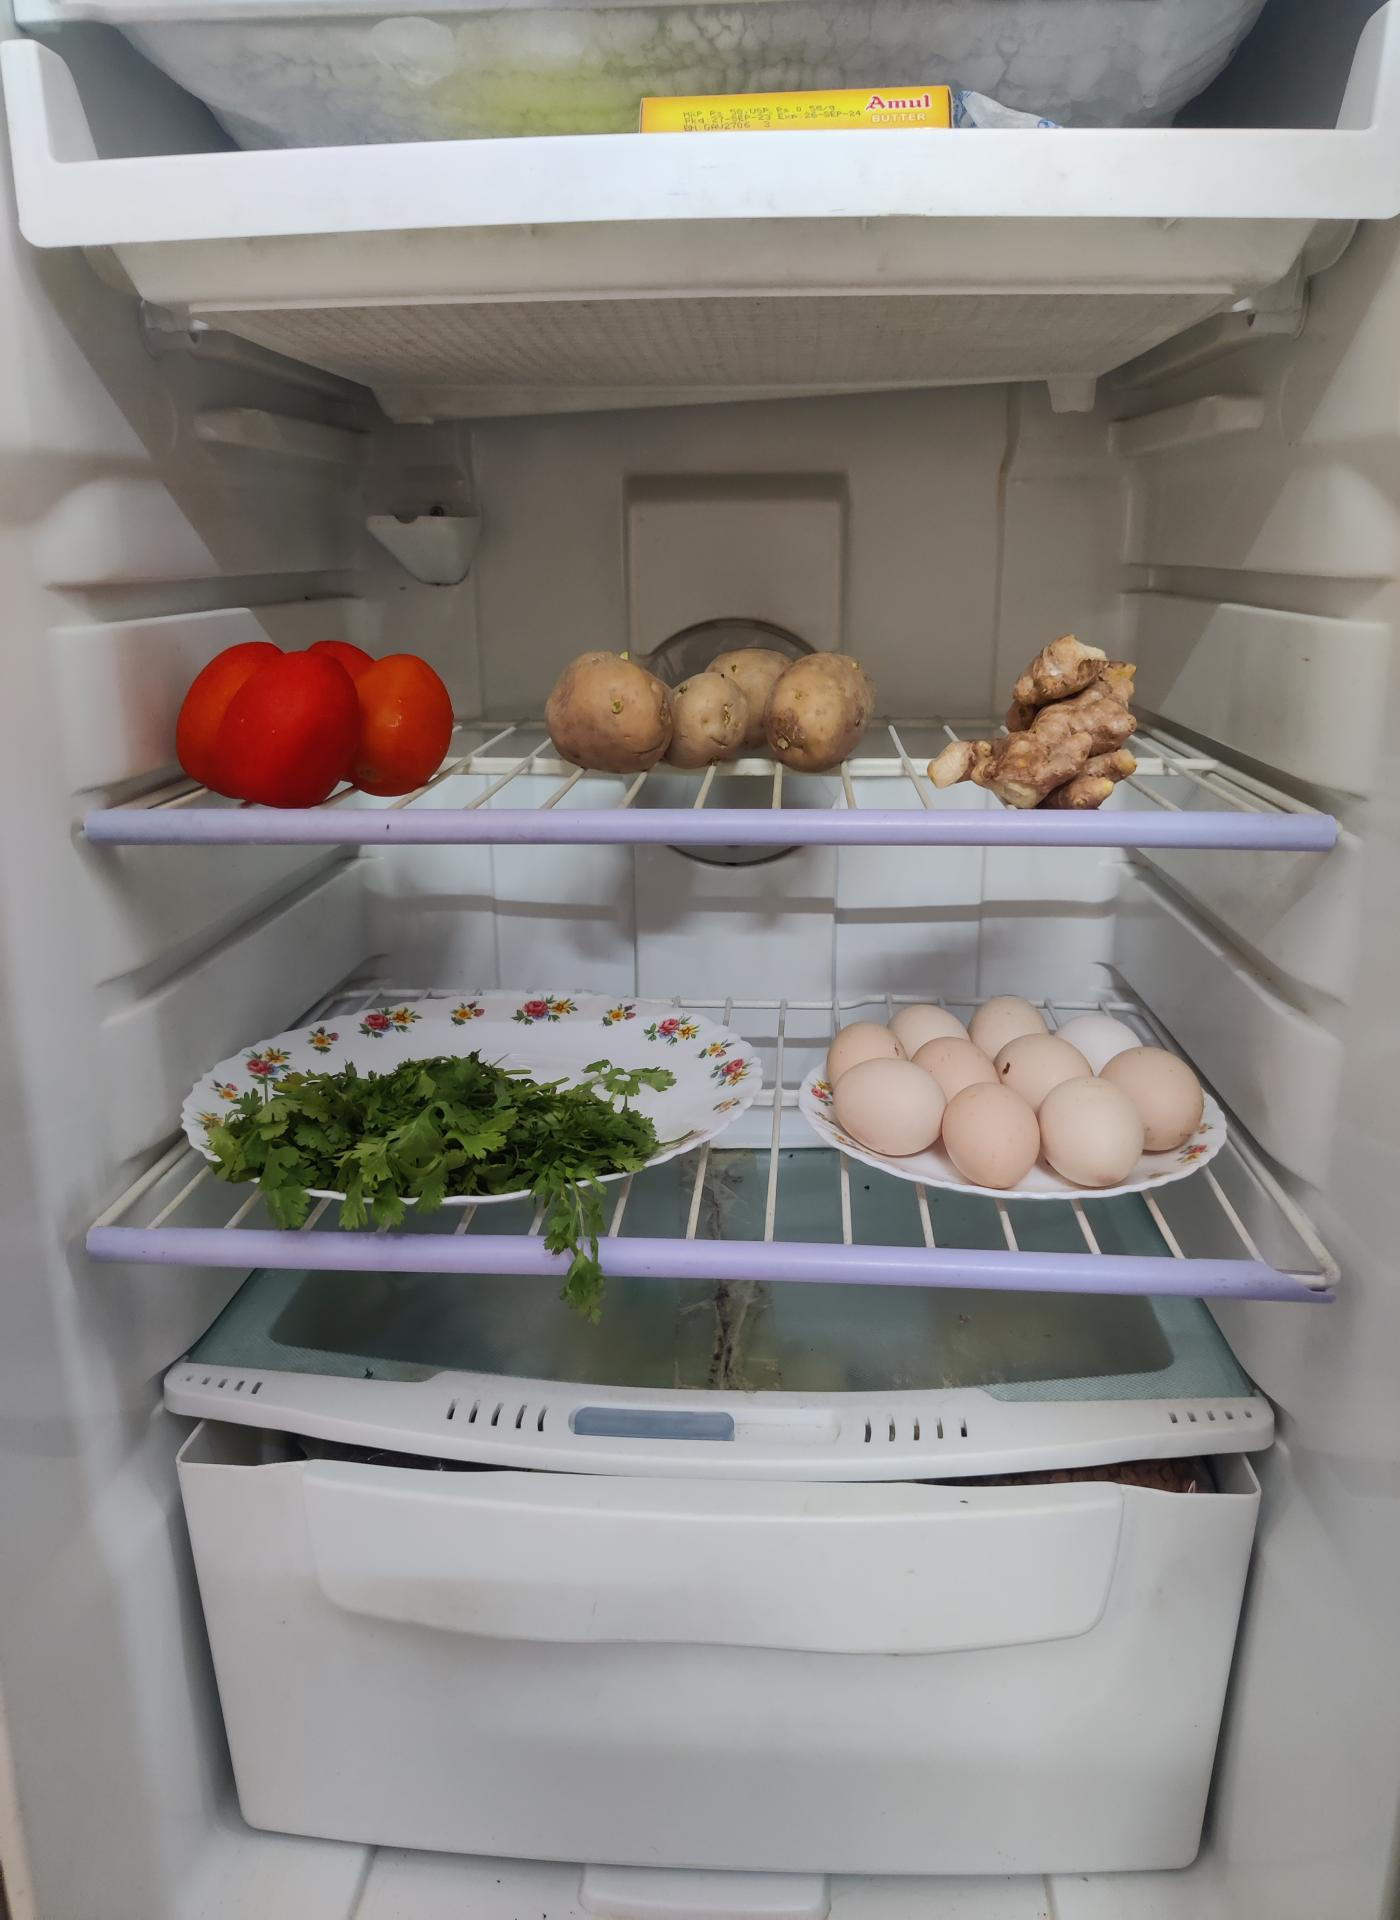coriander: (207, 1048, 660, 1209)
egg: (808, 1008, 1196, 1213)
ginger: (948, 632, 1141, 811)
potato: (547, 638, 878, 768)
tomato: (179, 635, 459, 800)
